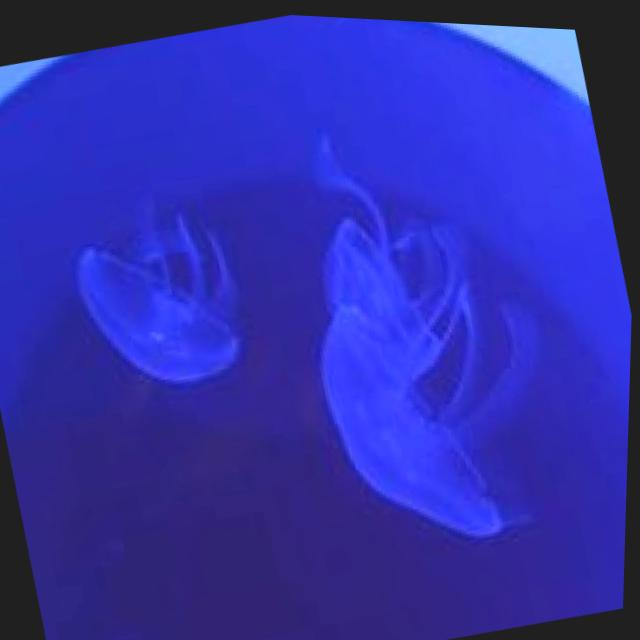Moon-jellyfish: (260, 87, 594, 571), (55, 181, 266, 409)
